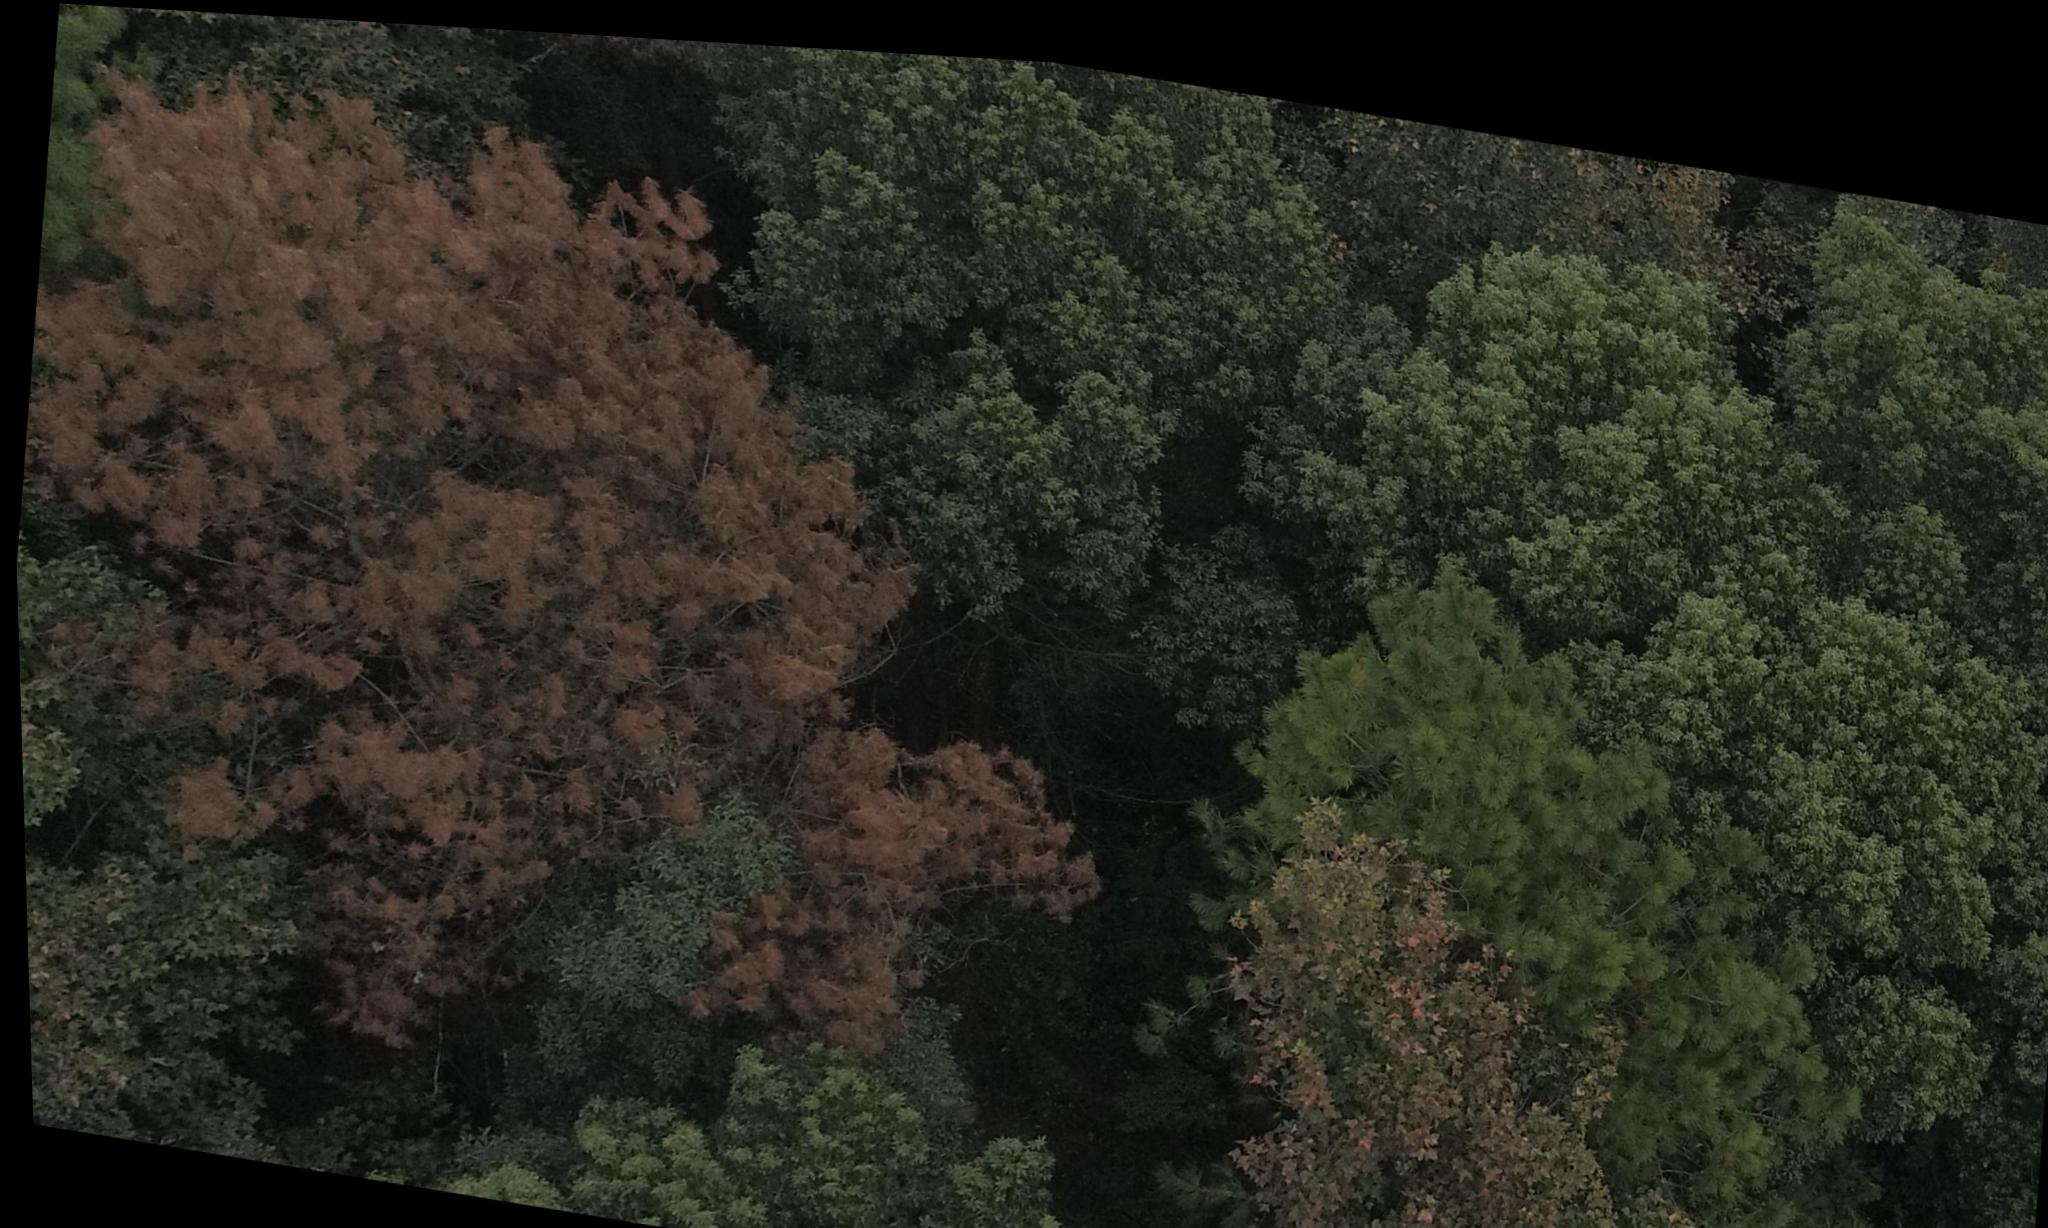heavy: (1, 92, 938, 991), (718, 708, 1101, 1070)
